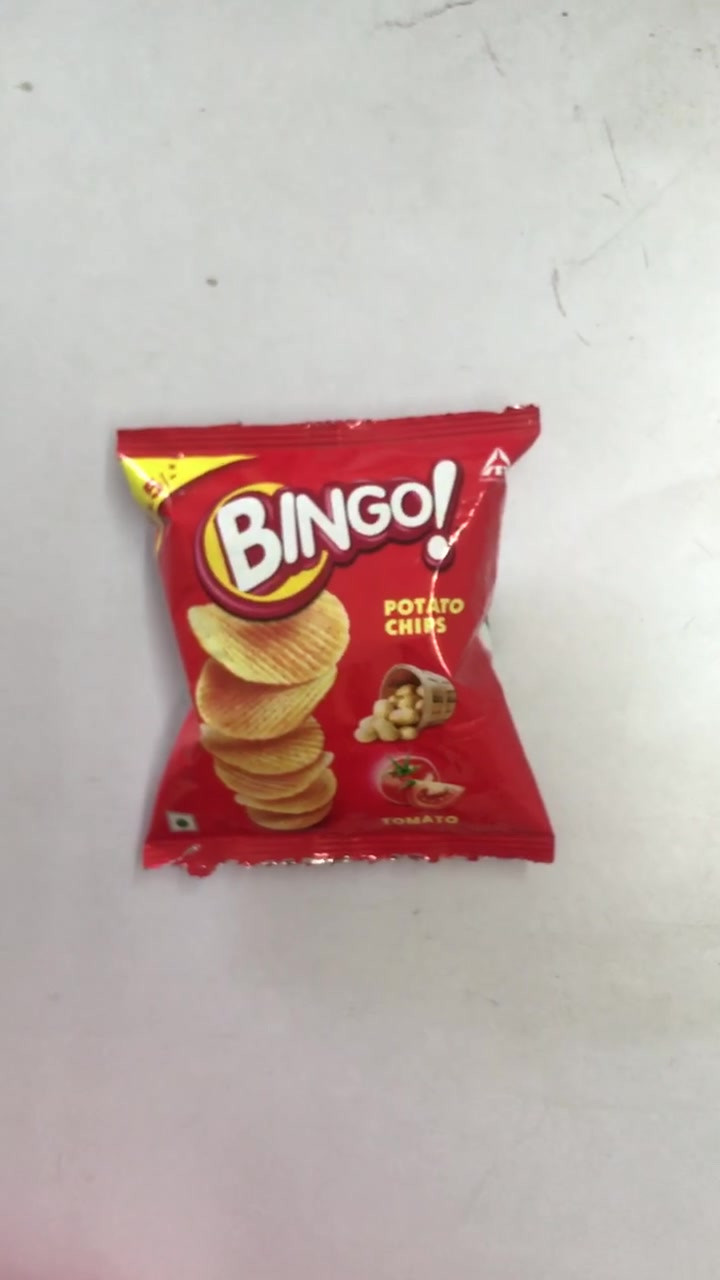Bingo: (116, 424, 552, 856)
